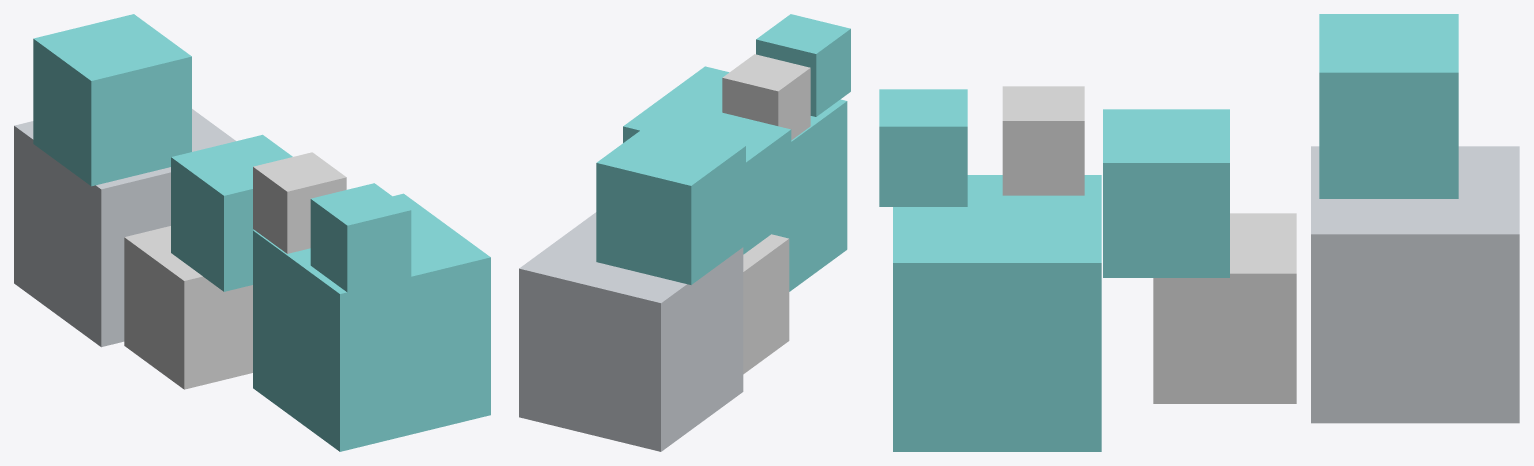
File: icecubes.fbx
The picture shows the model from 3 angles, left to right: view 1: azimuth 30°, elevation 25°; view 2: azimuth 150°, elevation 25°; view 3: azimuth 270°, elevation 25°; orthographic projection. The views are drawn at different scales.
Visible parts, largest first — view 1: Cube.001; view 2: Cube.001; view 3: Cube.001.
Part boxes in pixels (<box>): Cube.001: <box>14,14,490,451</box>; Cube.001: <box>519,14,850,451</box>; Cube.001: <box>879,14,1519,451</box>.
Bounding box in the file's own units: 294 × 336 × 614.
